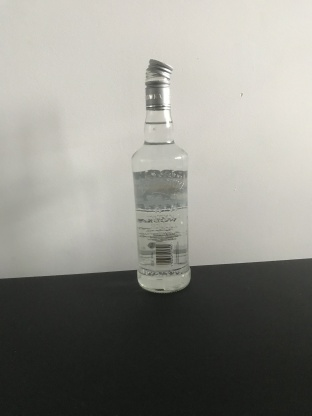nakretka: (143, 56, 174, 110)
